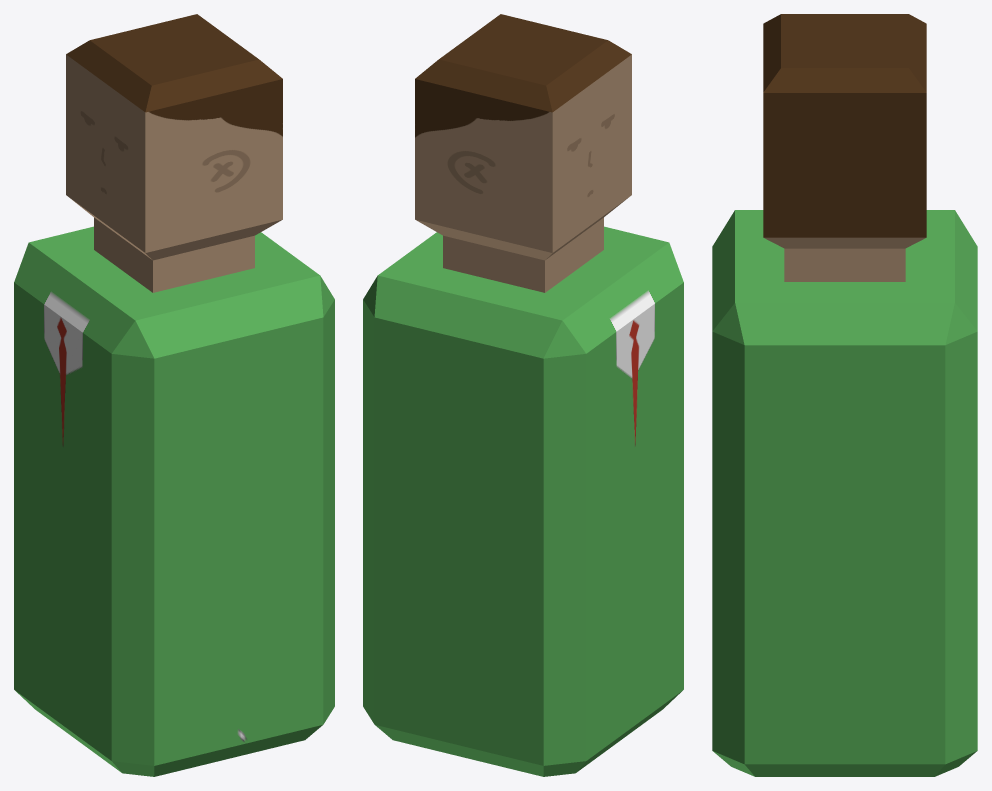
Rendered from jury1.glb.
3 views of the same model, side by side, from view 1: azimuth 30°, elevation 25°; view 2: azimuth 150°, elevation 25°; view 3: azimuth 270°, elevation 25° (orthographic). The views are drawn at different scales.
Visible parts, largest first — view 1: Cube.002; view 2: Cube.002; view 3: Cube.002.
Part boxes in pixels (x1,y1,x2,y2): Cube.002: (14, 14, 334, 776); Cube.002: (363, 14, 683, 776); Cube.002: (712, 14, 977, 776).
Bounding box in the file's own units: 0.6964 × 1.99 × 0.6964.
1 material, 1 textured.
